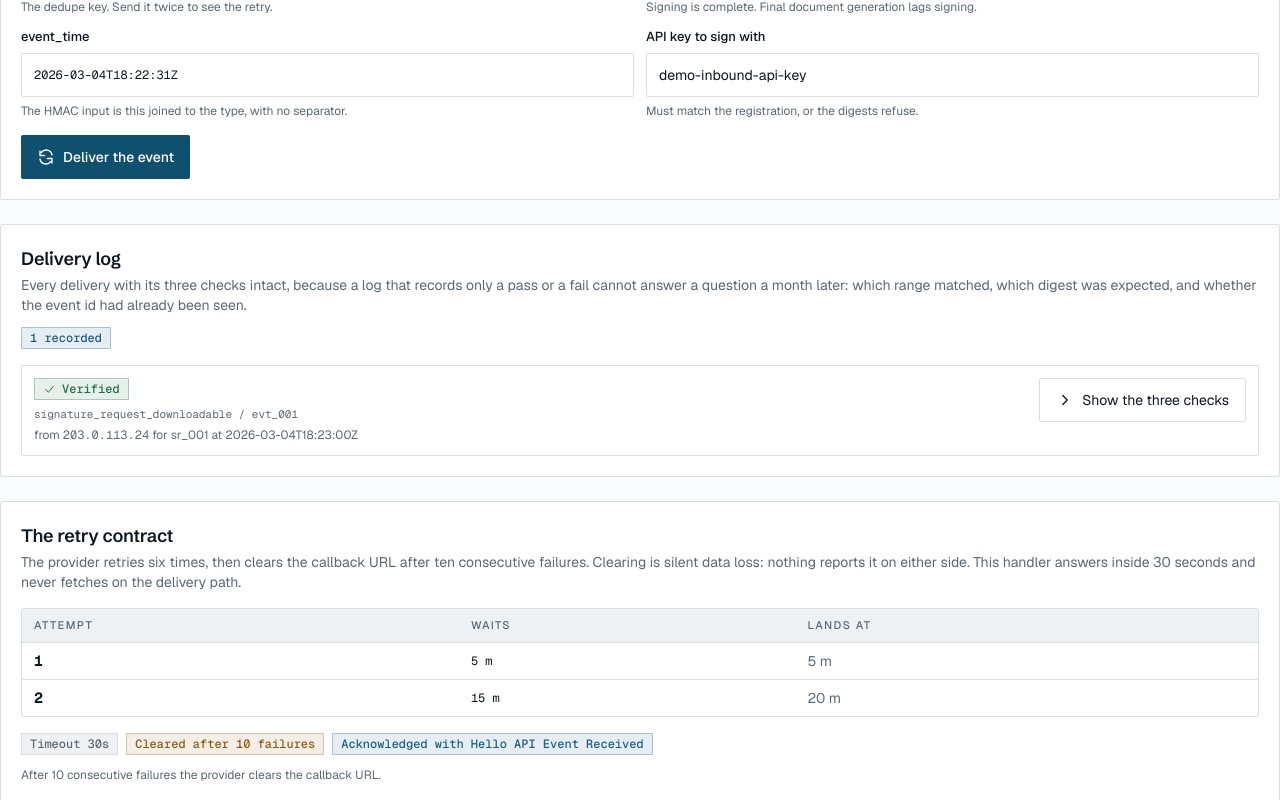
the panel can be driven › reveals the three checks for a delivery on demand
The width and height of the screenshot is (1280, 800).
(page scrolled)
Click the button "Show the three checks".
click(1143, 400)  # box [1039,378,1246,422]
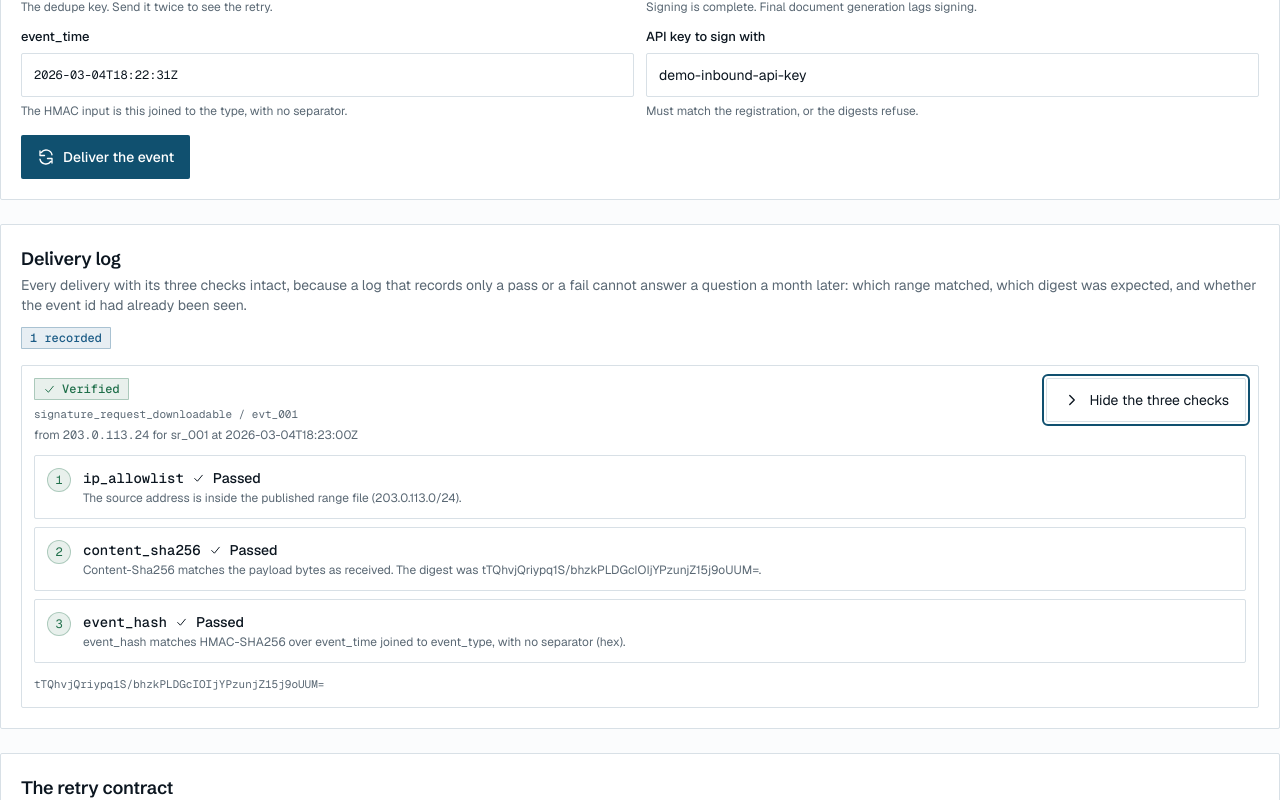
Now the text "ip_allowlist" is shown, box [83,468,184,488]
